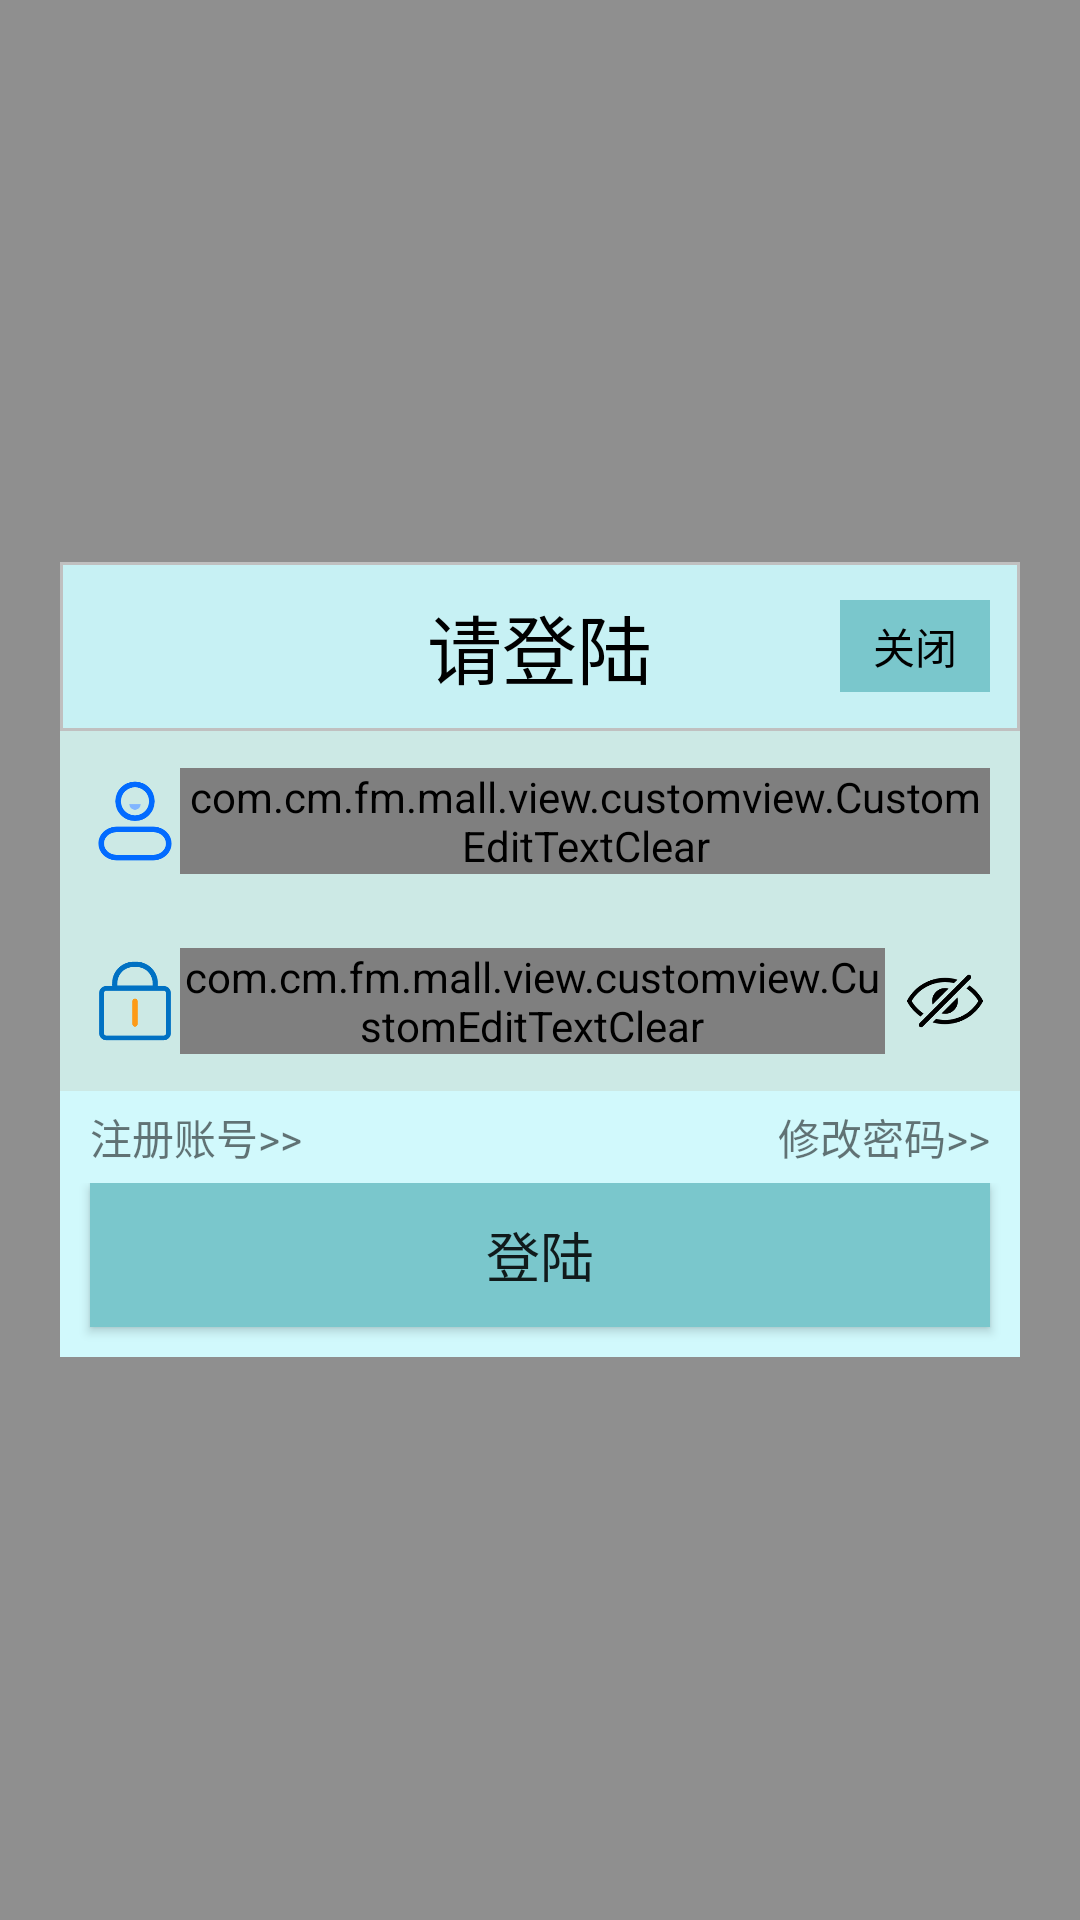

Where icons sit on this 1080 × 1920 app screen, as (x1, y1, x2, y2):
account: (98, 781, 172, 861)
password: (99, 961, 171, 1041)
pwd hide: (907, 974, 983, 1028)
